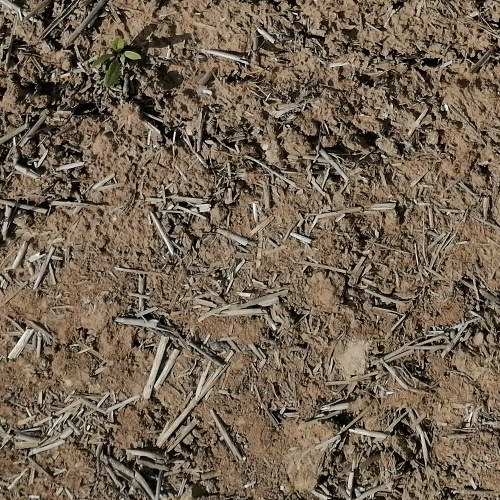beet: (91, 38, 140, 85)
